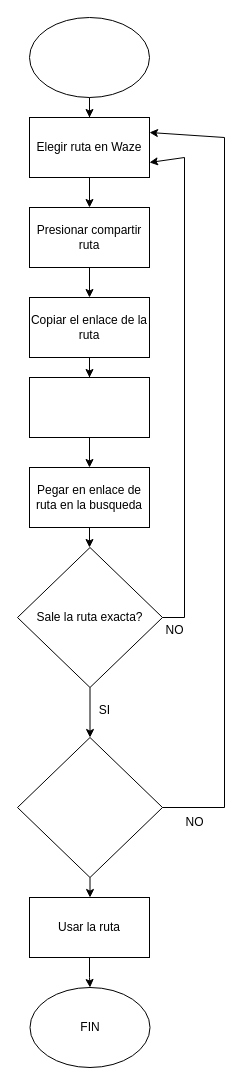
This 250x1085 diagram has some shape labels left out. The shapes that lost their labels are listed below. From the top down, each one's box as (x1, y1, x2, y2) in pixels, then its label:
(28, 16, 150, 98): Inicio
(28, 376, 150, 438): Abrir aplicacion de mapas GPS
(16, 736, 162, 878): Se llegaria a tiempo?
